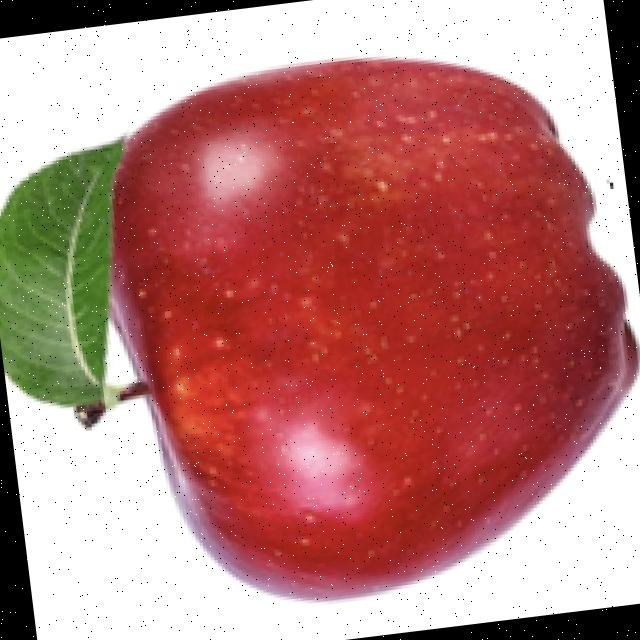apple: (0, 53, 640, 607)
